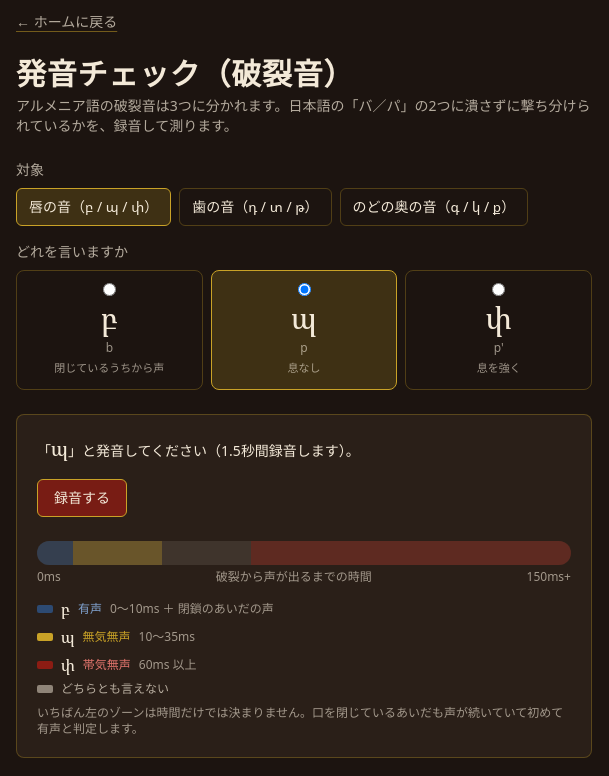
Scenario: VotPractice › 前有声化のない短い VOT は、有声と無気のどちらとも決めない
This screenshot has width=609, height=776.
Click the button "録音する". click: (82, 498)
box: x1=37 y1=478 x2=127 y2=516
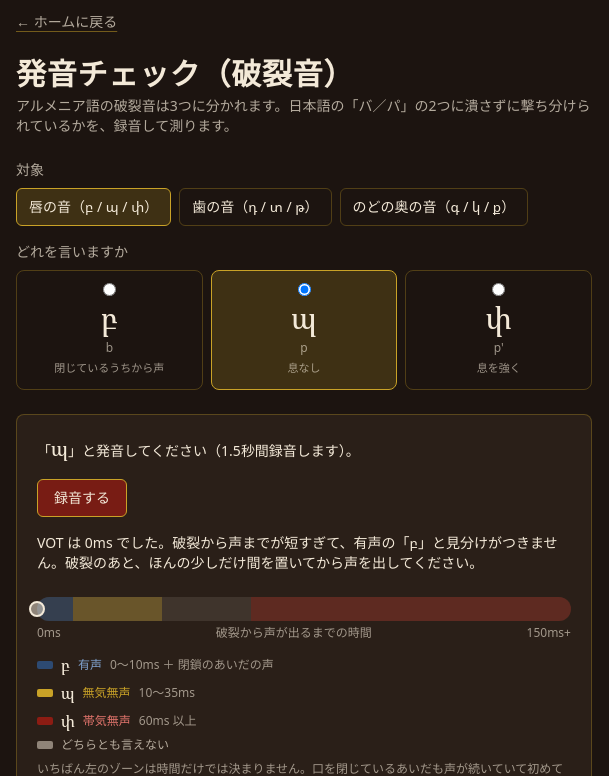
Check: the text "見分けがつきません" is shown, box x1=37 y1=532 x2=558 y2=572
